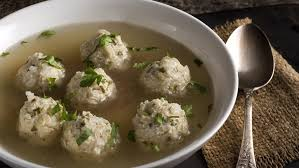bakso: (10, 32, 205, 153)
